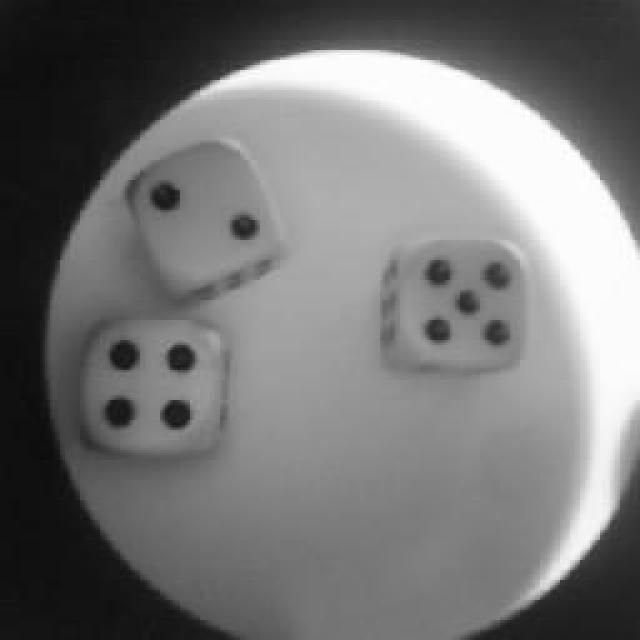dice_2: (130, 138, 295, 300)
dice_4: (72, 312, 242, 472)
dice_5: (385, 228, 545, 380)
